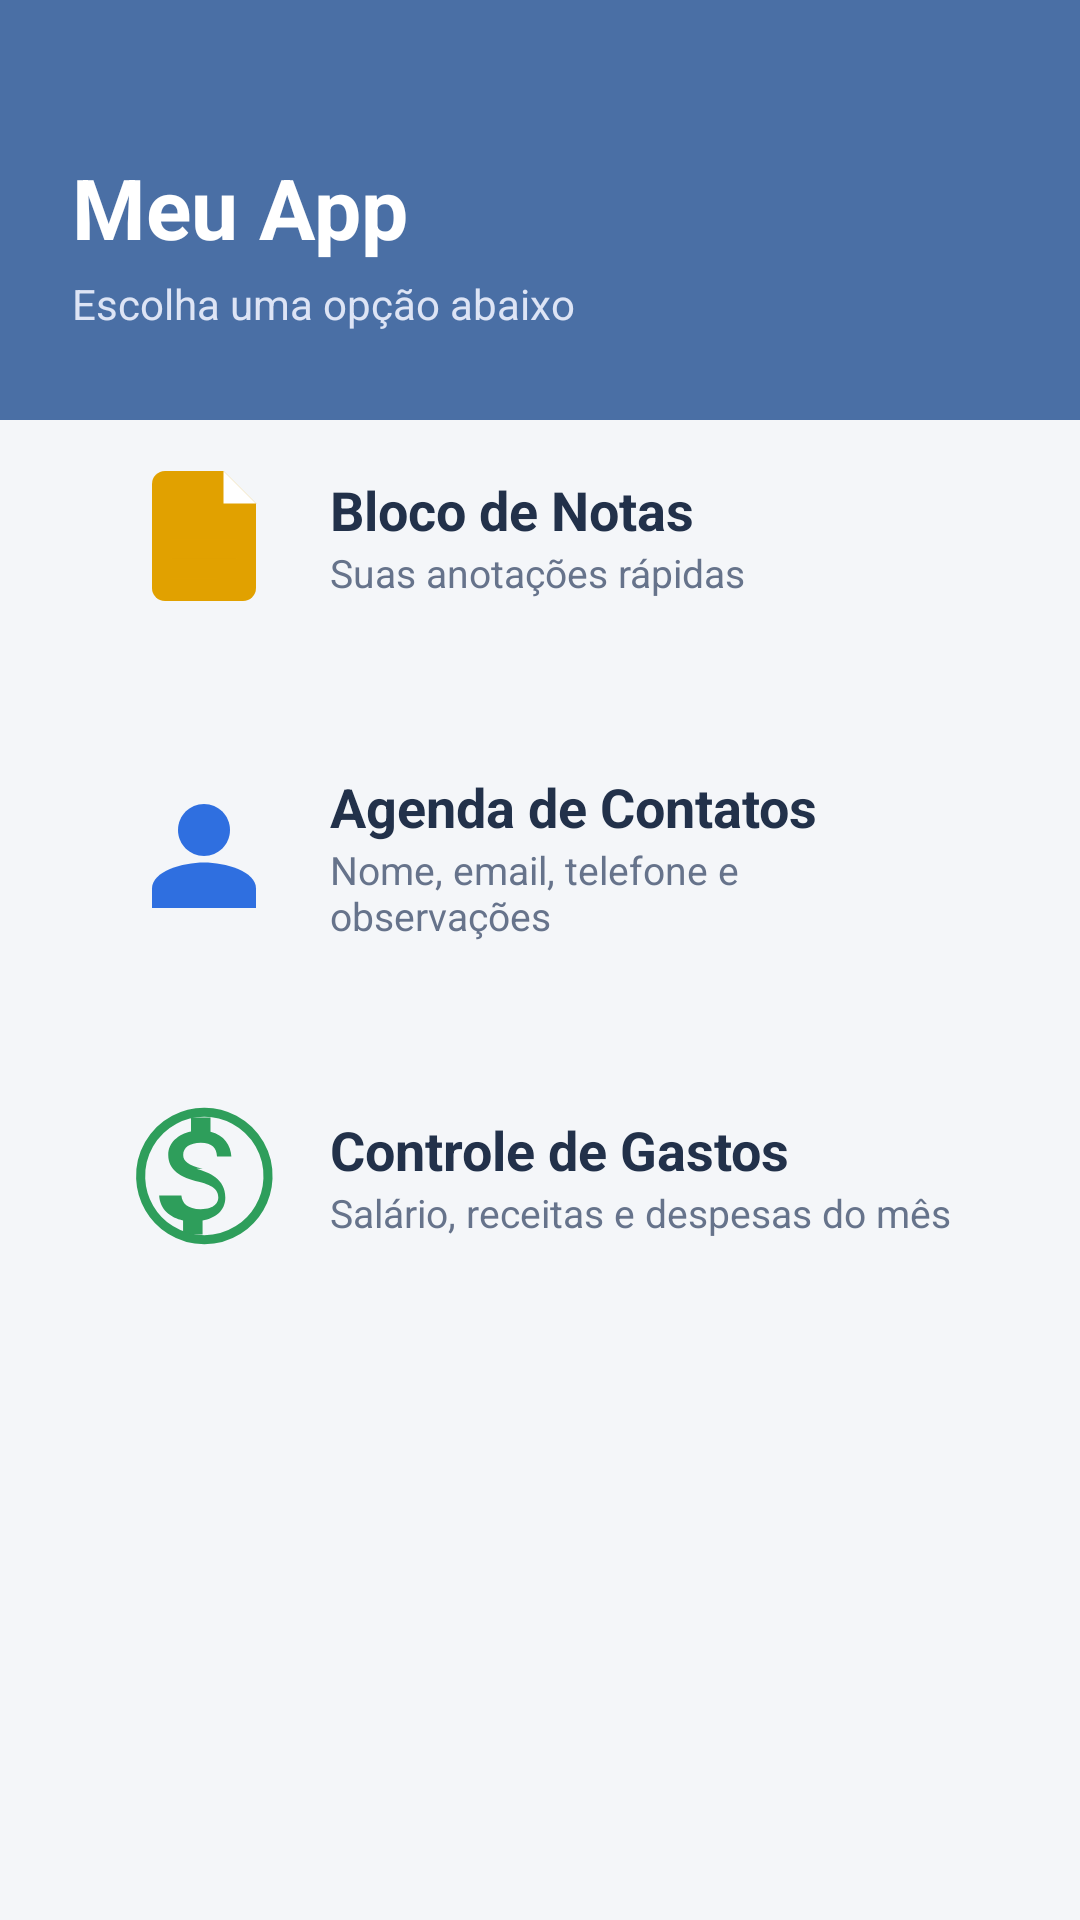

Screen size 1080w x 1920h. Icon name, then its box in pixels as (x1, y1, x2, y2):
expenses: (136, 1107, 273, 1245)
notes: (152, 471, 257, 601)
